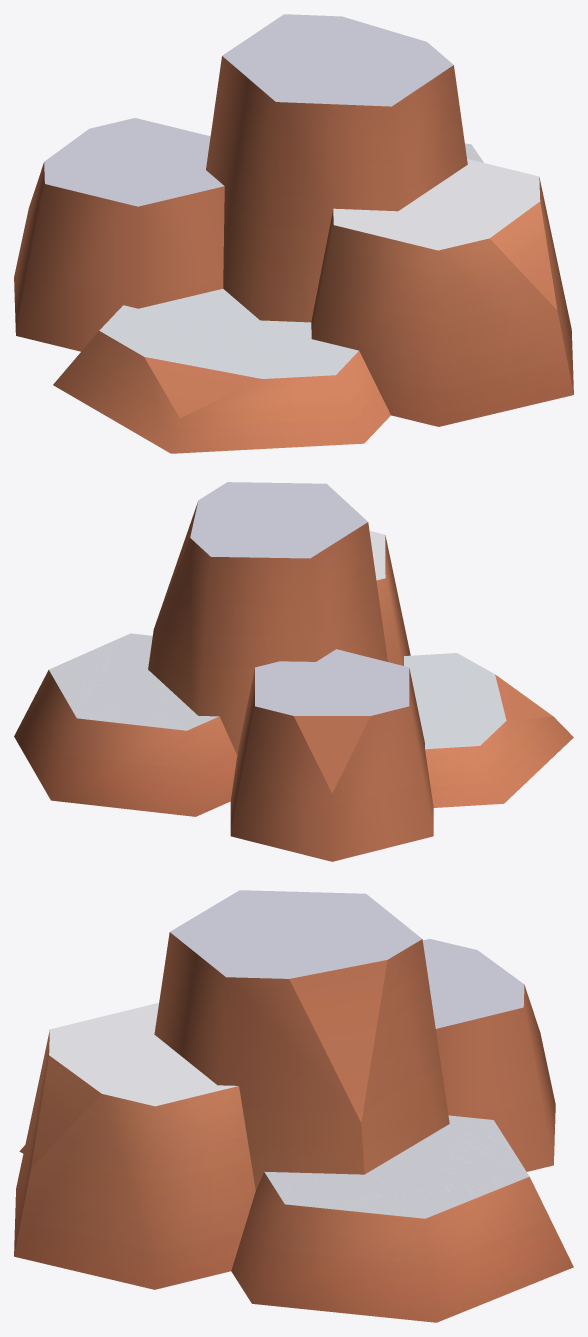
Rendered from snow-detail-dirt-large.glb.
The picture shows the model from 3 angles, top to bottom: view 1: azimuth 30°, elevation 25°; view 2: azimuth 150°, elevation 25°; view 3: azimuth 270°, elevation 25°; orthographic projection. The views are drawn at different scales.
Parts seen in each view (by area): view 1: snow-detail-dirt-large; view 2: snow-detail-dirt-large; view 3: snow-detail-dirt-large.
Part boxes in pixels (x1,y1,x2,y2): snow-detail-dirt-large: (14, 14, 573, 453); snow-detail-dirt-large: (14, 482, 573, 861); snow-detail-dirt-large: (14, 890, 573, 1322).
Bounding box in the file's own units: 0.8531 × 0.4145 × 0.7785.
1 material, 1 textured.
